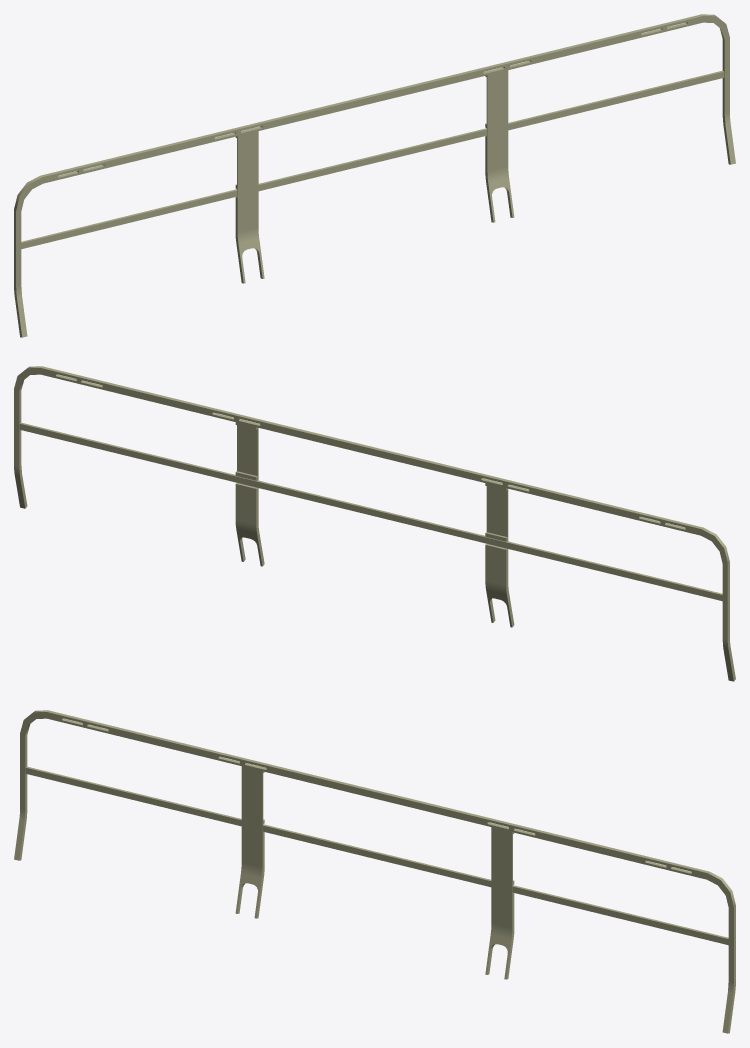
Rendered from fushou_low2.fbx.
3 renders of one model, top to bottom at view 1: azimuth 30°, elevation 25°; view 2: azimuth 150°, elevation 25°; view 3: azimuth 330°, elevation 25°, orthographic.
Visible parts, largest first — view 1: f1_low, f2_low; view 2: f1_low, f2_low; view 3: f1_low, f2_low.
Boxes of the visible parts, bbox=[...] form: f1_low: bbox=[14, 14, 735, 337]; f2_low: bbox=[235, 70, 514, 283]; f1_low: bbox=[14, 366, 735, 681]; f2_low: bbox=[235, 422, 514, 627]; f1_low: bbox=[14, 710, 735, 1033]; f2_low: bbox=[235, 766, 514, 979].
Bounding box in the file's own units: 185 × 37.3 × 3.7.
